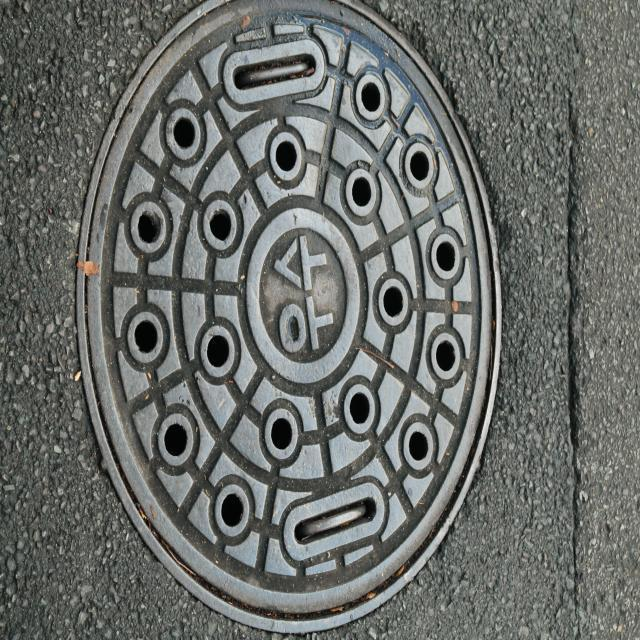manhole: (74, 1, 502, 637)
